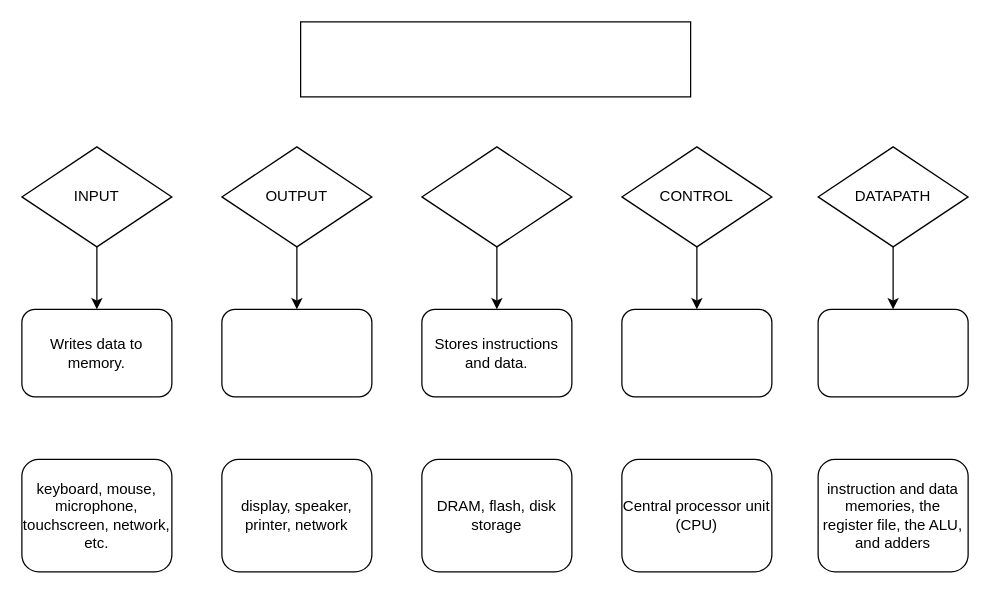
Image size: 990x594. Some labels were removed from this diagram. The centre of each missing label's shape, as x and y in pixels:
"MEMORY" belongs at point (496, 196).
"Performs computations." belongs at point (892, 352).
"Reads data from memory." belongs at point (296, 352).
"Sends signals that determine the operation of the other components." belongs at point (696, 352).
"Standard organization of a computer" belongs at point (495, 59).
